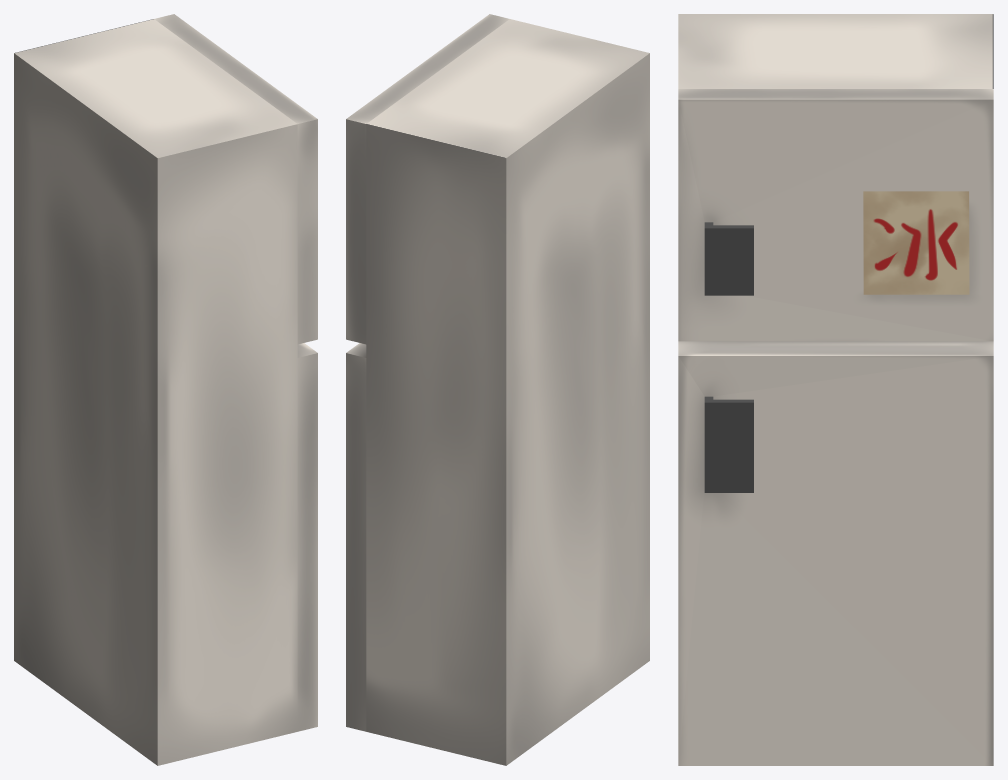
The model's file is refrigerator.FBX.
The picture shows the model from 3 angles, left to right: view 1: azimuth 30°, elevation 25°; view 2: azimuth 150°, elevation 25°; view 3: azimuth 270°, elevation 25°; orthographic projection. The views are drawn at different scales.
Visible parts, largest first — view 1: refrigerator; view 2: refrigerator; view 3: refrigerator.
Boxes of the visible parts, left/top/right/bottom form: refrigerator: left=14, top=14, right=317, bottom=765; refrigerator: left=346, top=14, right=649, bottom=765; refrigerator: left=678, top=14, right=993, bottom=765.
Bounding box in the file's own units: 72.67 × 247 × 106.
Materials: 1 (1 with a texture image).
